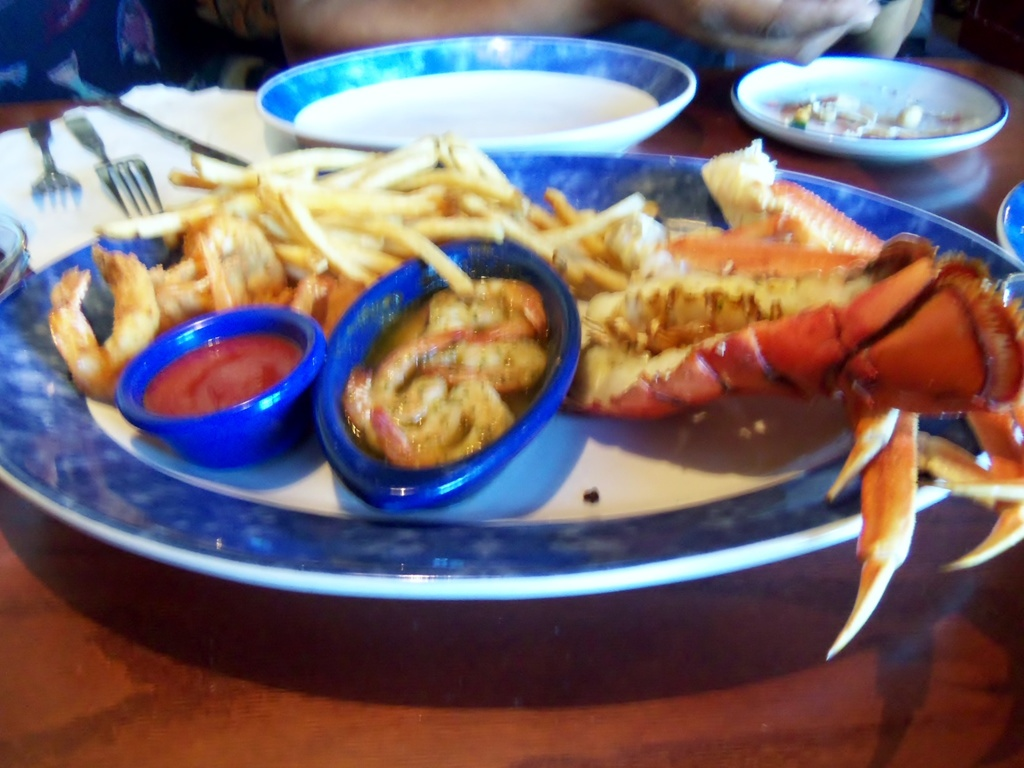French fries: (188, 138, 627, 297)
